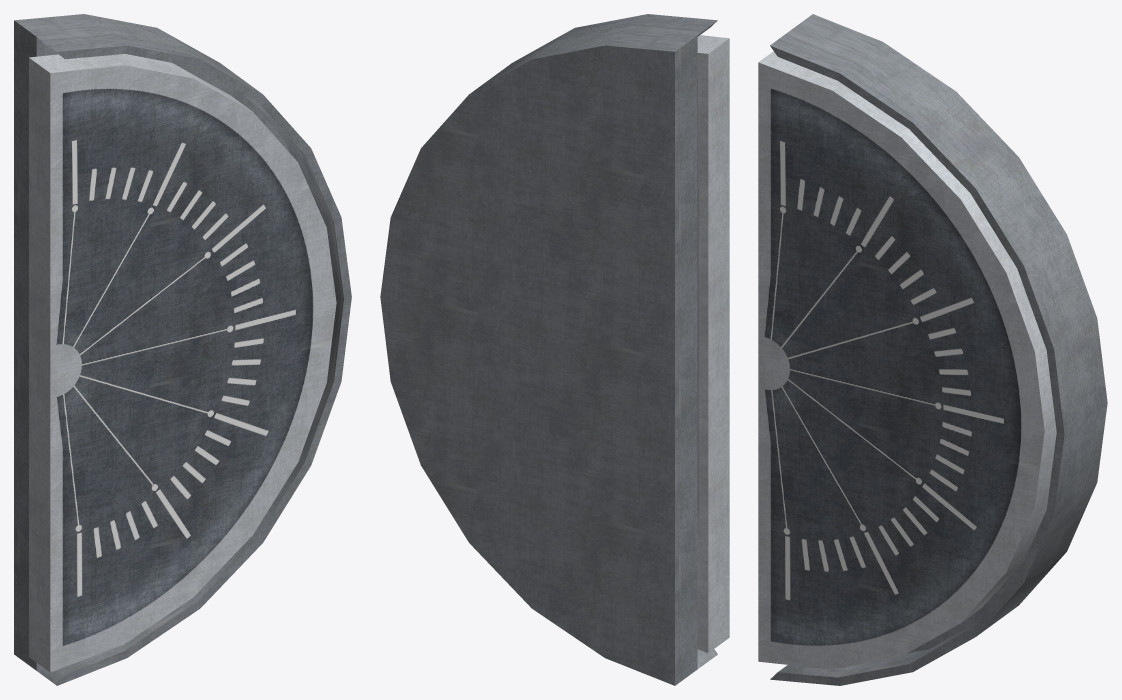
File: DoorLock.fbx
The picture shows the model from 3 angles, left to right: view 1: azimuth 30°, elevation 25°; view 2: azimuth 150°, elevation 25°; view 3: azimuth 330°, elevation 25°; orthographic projection.
Parts seen in each view (by area): view 1: Dial_Out, Dial_Inner; view 2: Dial_Inner, Dial_Out; view 3: Dial_Out, Dial_Inner.
Boxes of the visible parts, x1,y1,x2,y2 form: Dial_Out: (29,54,336,672); Dial_Inner: (14,14,351,685); Dial_Inner: (380,14,717,685); Dial_Out: (697,35,729,652); Dial_Out: (758,51,1056,669); Dial_Inner: (770,14,1107,685).
Bounding box in the file's own units: 26.8 × 53.42 × 6.93.
Materials: 2 (2 with a texture image).
